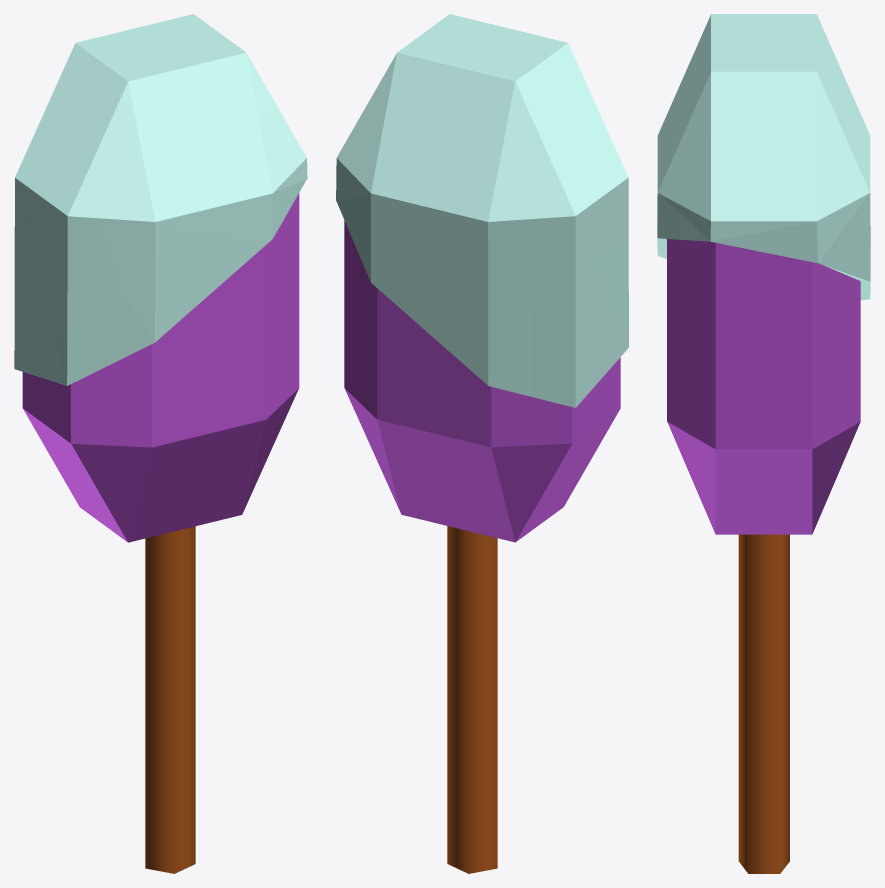
Rendered from Tree1.FBX.
3 views of the same model, side by side, from view 1: azimuth 30°, elevation 25°; view 2: azimuth 150°, elevation 25°; view 3: azimuth 270°, elevation 25° (orthographic).
Parts seen in each view (by area): view 1: Tree1_C, Tree1_b, Tree1_a; view 2: Tree1_C, Tree1_b, Tree1_a; view 3: Tree1_b, Tree1_C, Tree1_a.
Boxes of the visible parts, <box> form: Tree1_C: <box>14,14,307,385</box>; Tree1_b: <box>22,193,299,542</box>; Tree1_a: <box>145,526,195,873</box>; Tree1_C: <box>336,14,628,407</box>; Tree1_b: <box>344,220,620,542</box>; Tree1_a: <box>447,526,497,873</box>; Tree1_b: <box>667,239,860,534</box>; Tree1_C: <box>657,14,870,300</box>; Tree1_a: <box>738,534,789,873</box>.
Bounding box in the file's own units: 1853 × 6029 × 1425.
